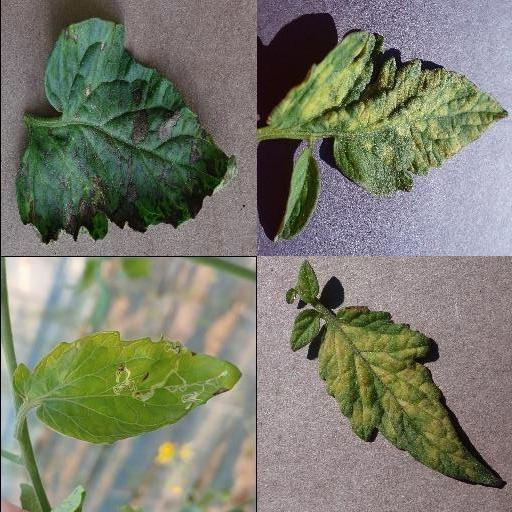Early Blight: (12, 17, 240, 247)
Leaf Miner: (12, 330, 242, 444)
Leaf Mold: (267, 30, 509, 194), (318, 307, 504, 487)
